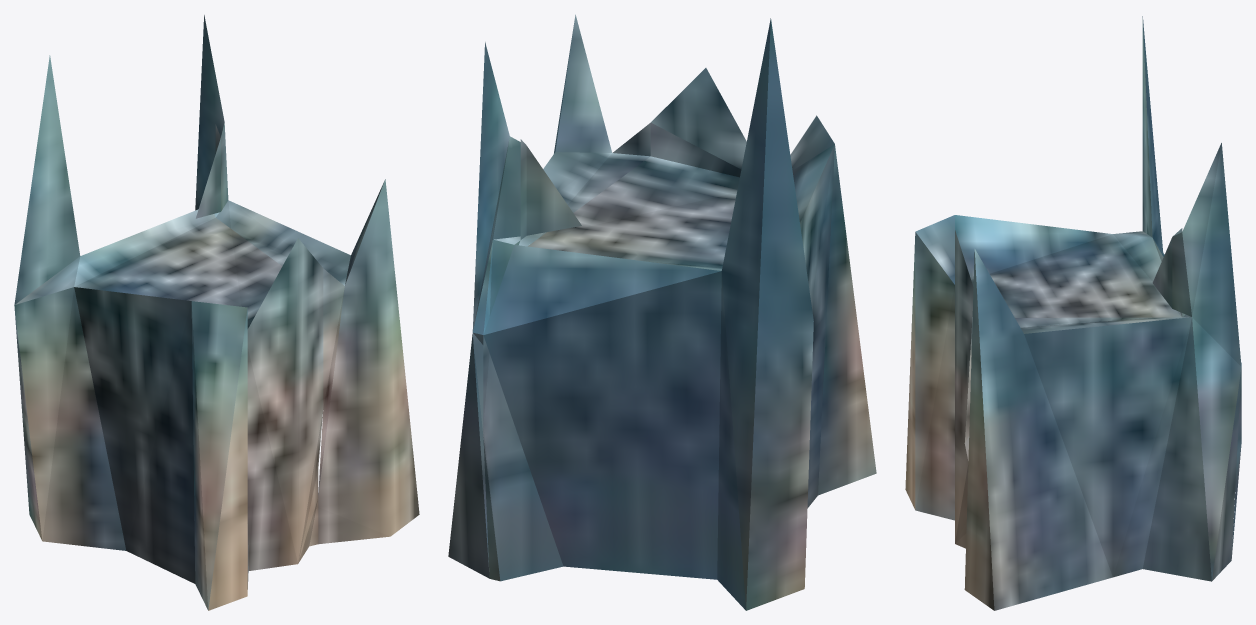
File: chunk_6_6.glb
3 renders of one model, left to right at view 1: azimuth 30°, elevation 25°; view 2: azimuth 150°, elevation 25°; view 3: azimuth 270°, elevation 25°, orthographic. The views are drawn at different scales.
Parts seen in each view (by area): view 1: hero-chunk; view 2: hero-chunk; view 3: hero-chunk.
Boxes of the visible parts, x1=… form: hero-chunk: x1=14, y1=15, x2=419, y2=610; hero-chunk: x1=448, y1=14, x2=876, y2=610; hero-chunk: x1=905, y1=16, x2=1241, y2=610.
Bounding box in the file's own units: 11.39 × 15.77 × 10.46.
Materials: 1 (1 with a texture image).
